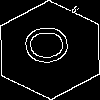O: (25, 25, 79, 65)
